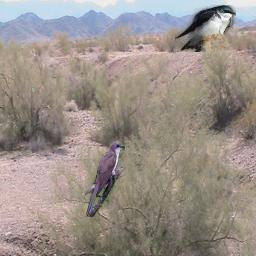Cuckoo: (85, 141, 125, 217)
Swallow: (175, 5, 236, 52)
